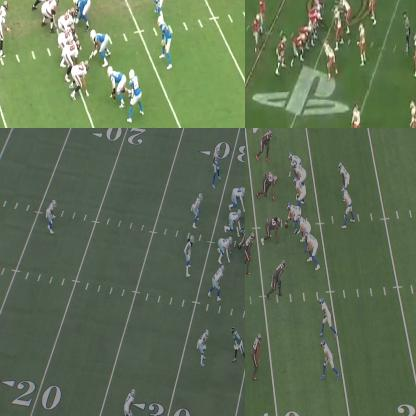CENTER: (58, 5, 78, 27), (286, 202, 299, 229), (312, 13, 322, 42), (240, 229, 244, 247)
DB: (198, 326, 211, 366), (45, 196, 57, 234), (254, 332, 264, 376), (122, 389, 135, 415), (212, 147, 222, 180), (408, 97, 415, 127)
LB: (154, 15, 177, 69), (212, 266, 225, 301), (357, 24, 367, 65), (191, 196, 202, 228), (245, 232, 254, 271), (351, 101, 364, 127), (186, 237, 194, 277), (366, 0, 377, 29), (150, 0, 166, 8)
QB: (0, 0, 13, 63), (342, 188, 356, 224), (256, 0, 266, 23)
SKILL: (70, 57, 90, 102), (127, 70, 144, 122), (322, 338, 338, 376), (320, 296, 334, 335), (276, 35, 286, 75), (234, 327, 244, 362), (253, 15, 261, 52), (340, 161, 348, 184), (313, 0, 326, 6)
